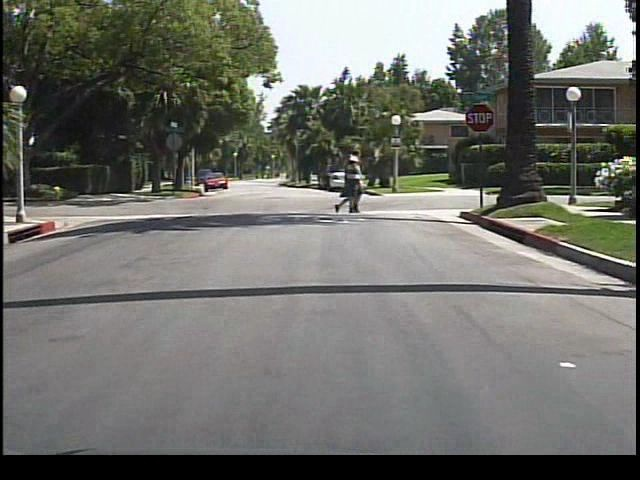person: (331, 149, 367, 217)
